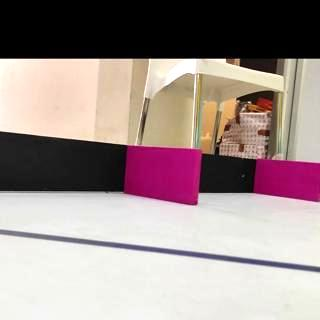xparking: (130, 150, 198, 198), (260, 162, 319, 194)
